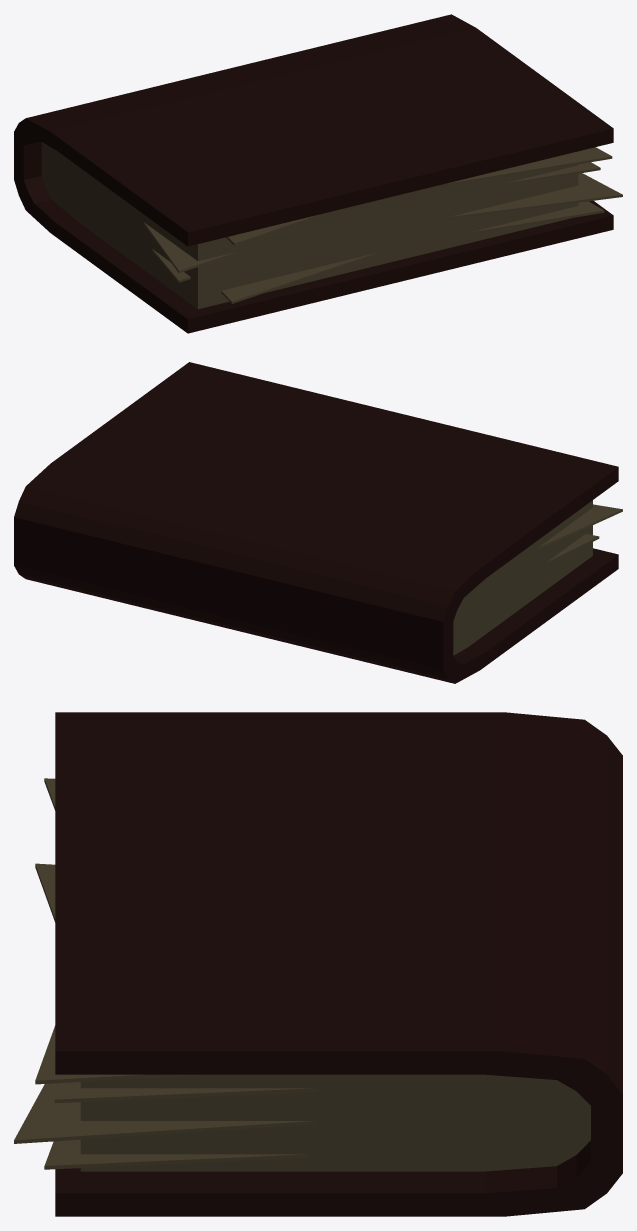
The model's file is Book1_Closed.obj.
3 views of the same model, one above another, from view 1: azimuth 30°, elevation 25°; view 2: azimuth 150°, elevation 25°; view 3: azimuth 270°, elevation 25° (orthographic). The views are drawn at different scales.
Parts seen in each view (by area): view 1: Book1_Closed_Cube.013; view 2: Book1_Closed_Cube.013; view 3: Book1_Closed_Cube.013.
Boxes of the visible parts, x1,y1,x2,y2 form: Book1_Closed_Cube.013: [14, 14, 622, 333]; Book1_Closed_Cube.013: [14, 362, 622, 683]; Book1_Closed_Cube.013: [14, 712, 622, 1216].
Bounding box in the file's own units: 0.802 × 0.1795 × 0.5993.
